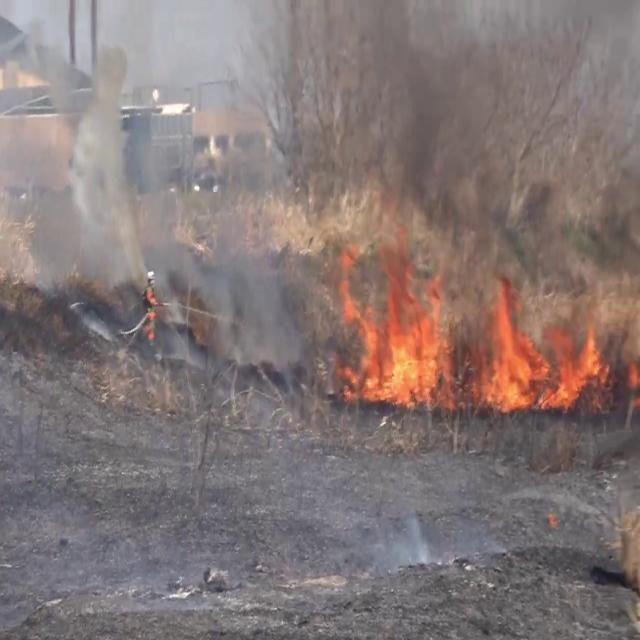Fire: (328, 270, 610, 416)
Smoke: (2, 2, 314, 422), (306, 3, 608, 263)
